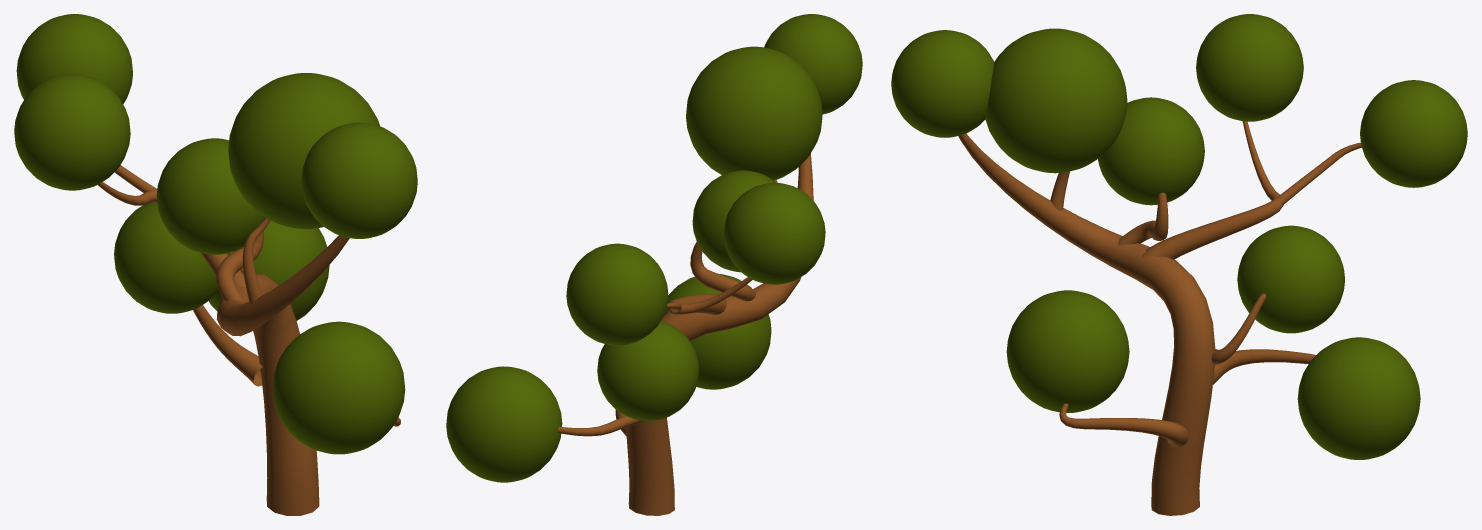
Rendered from low+poly+tree+1_Tree_1.glb.
3 renders of one model, left to right at view 1: azimuth 30°, elevation 25°; view 2: azimuth 150°, elevation 25°; view 3: azimuth 270°, elevation 25°, orthographic. The views are drawn at different scales.
Visible parts, largest first — view 1: tree; view 2: tree; view 3: tree.
Boxes of the visible parts, x1=… form: tree: x1=14, y1=14, x2=417, y2=515; tree: x1=446, y1=14, x2=862, y2=515; tree: x1=891, y1=14, x2=1467, y2=515.
Size of the model in its own units: 4.19 by 5.42 by 6.32.
